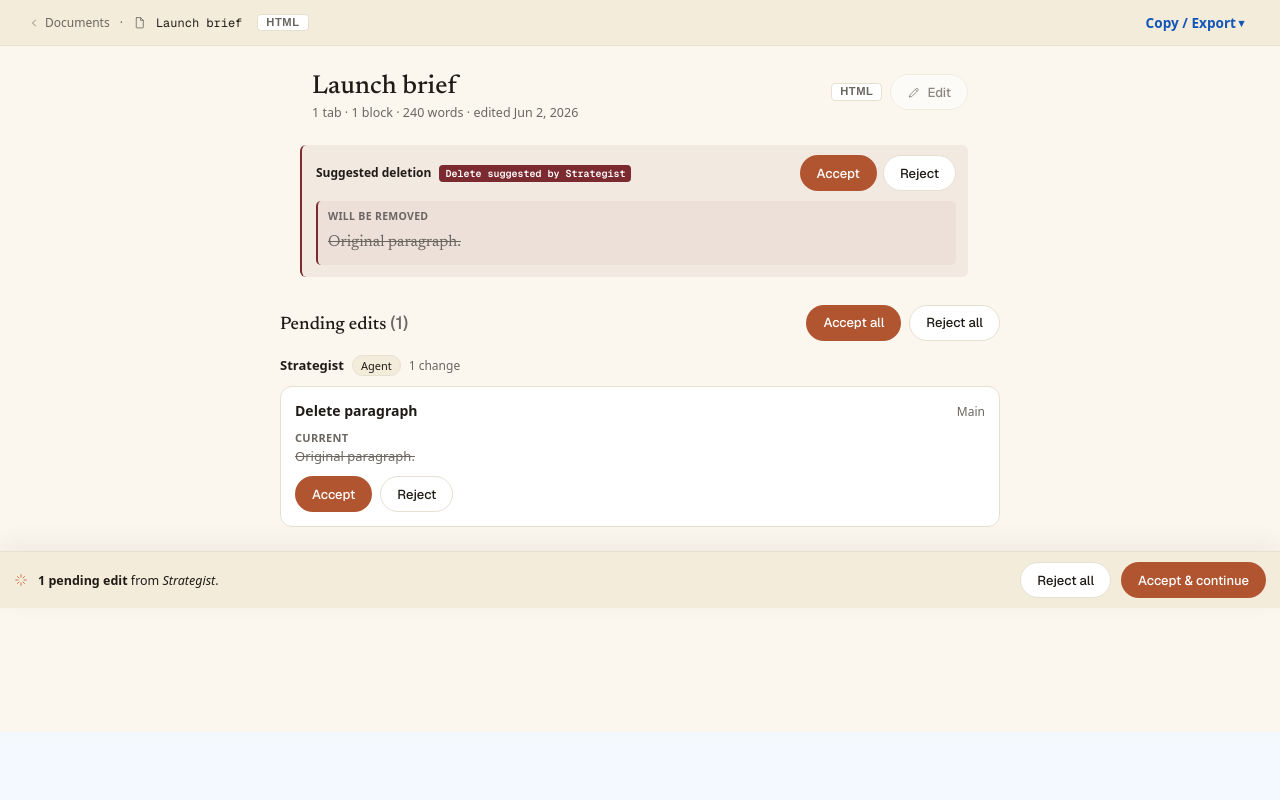
Test: DocumentDetailPage › rejects an inline delete suggestion and keeps the block
The image size is (1280, 800).
Check: the text "Suggested deletion" is shown, box x1=316 y1=164 x2=431 y2=181
Check: the text "Will be removed" is shown, box x1=328 y1=209 x2=428 y2=223
What coordinates should you click on to do the following:
click the button with aria-label "Reject inline suggested deletion"
I would click on:
 (919, 173)
Its box is x1=883 y1=155 x2=956 y2=191.
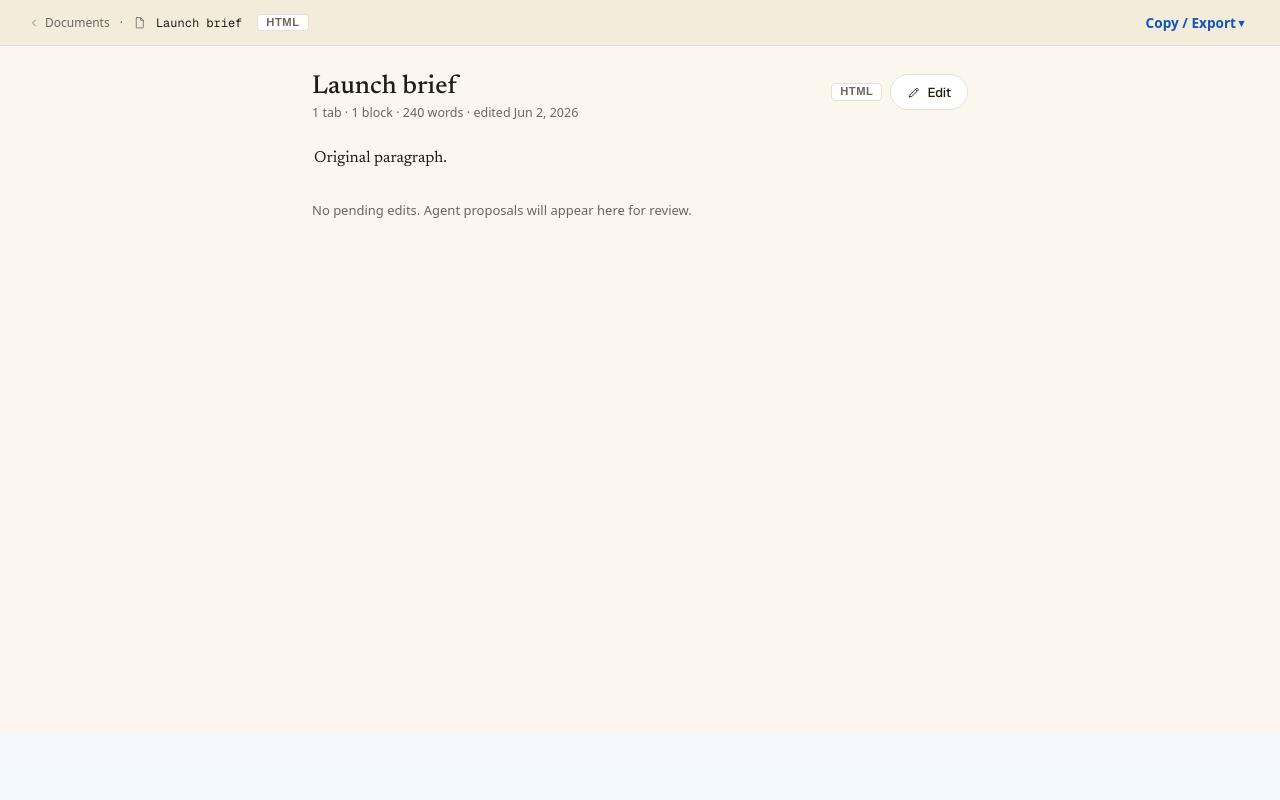
Check: the text "Original paragraph." is shown, box x1=314 y1=150 x2=447 y2=166
Check: the text "No pending edits" is shown, box x1=312 y1=200 x2=692 y2=218
